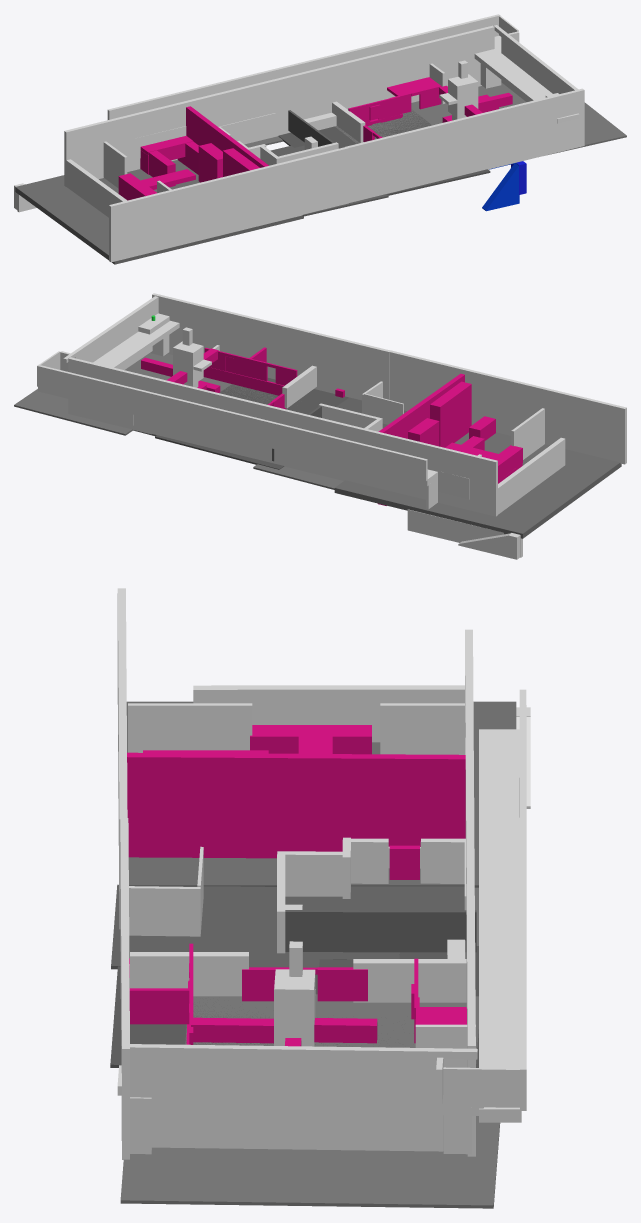
The model's file is 阕限空间第二层(2).fbx.
3 views of the same model, one above another, from view 1: azimuth 30°, elevation 25°; view 2: azimuth 150°, elevation 25°; view 3: azimuth 270°, elevation 25° (orthographic). The views are drawn at different scales.
Parts seen in each view (by area): view 1: 立方体.176, 立方体.174, 立方体.169, 立方体.229, 立方体.157, 立方体.109, 立方体.171, 立方体.182, 立方体.178, 立方体.223, 立方体.159, 立方体.186 (+16 smaller); view 2: 立方体.176, 立方体.229, 立方体.174, 立方体.169, 立方体.157, 立方体.193, 立方体.217, 立方体.186, 立方体.171, 立方体.159, 立方体.178, 立方体.188 (+19 smaller); view 3: 立方体.184, 立方体.178, 立方体.159, 立方体.217, 立方体.172, 立方体.186, 立方体.179, 立方体.176, 立方体.230, 立方体.177, 立方体.167, 立方体.183 (+26 smaller).
Boxes of the visible parts, bbox=[...] form: 立方体.176: bbox=[109, 88, 584, 262]; 立方体.174: bbox=[255, 25, 494, 141]; 立方体.169: bbox=[64, 84, 256, 186]; 立方体.229: bbox=[107, 14, 500, 119]; 立方体.157: bbox=[15, 175, 162, 264]; 立方体.109: bbox=[348, 77, 441, 126]; 立方体.171: bbox=[278, 110, 490, 195]; 立方体.182: bbox=[140, 135, 198, 187]; 立方体.178: bbox=[501, 31, 578, 101]; 立方体.223: bbox=[474, 47, 579, 123]; 立方体.159: bbox=[478, 82, 626, 155]; 立方体.186: bbox=[66, 159, 127, 217]; 立方体.176: bbox=[152, 293, 626, 464]; 立方体.229: bbox=[37, 364, 427, 480]; 立方体.174: bbox=[68, 357, 306, 470]; 立方体.169: bbox=[302, 414, 497, 516]; 立方体.157: bbox=[475, 451, 621, 538]; 立方体.193: bbox=[203, 347, 297, 395]; 立方体.217: bbox=[38, 387, 437, 486]; 立方体.186: bbox=[498, 437, 565, 514]; 立方体.171: bbox=[155, 378, 348, 469]; 立方体.159: bbox=[14, 353, 172, 435]; 立方体.178: bbox=[72, 296, 158, 369]; 立方体.188: bbox=[430, 381, 471, 447]; 立方体.184: bbox=[127, 752, 465, 858]; 立方体.178: bbox=[130, 1044, 443, 1151]; 立方体.159: bbox=[120, 1116, 500, 1208]; 立方体.217: bbox=[479, 729, 521, 1122]; 立方体.172: bbox=[111, 884, 324, 969]; 立方体.186: bbox=[193, 685, 464, 742]; 立方体.179: bbox=[128, 703, 252, 752]; 立方体.176: bbox=[117, 588, 129, 1159]; 立方体.230: bbox=[185, 994, 478, 1063]; 立方体.177: bbox=[343, 910, 476, 952]; 立方体.167: bbox=[128, 838, 478, 887]; 立方体.183: bbox=[130, 952, 248, 996].
Bounding box in the file's own units: 15128 × 3171 × 5304.
